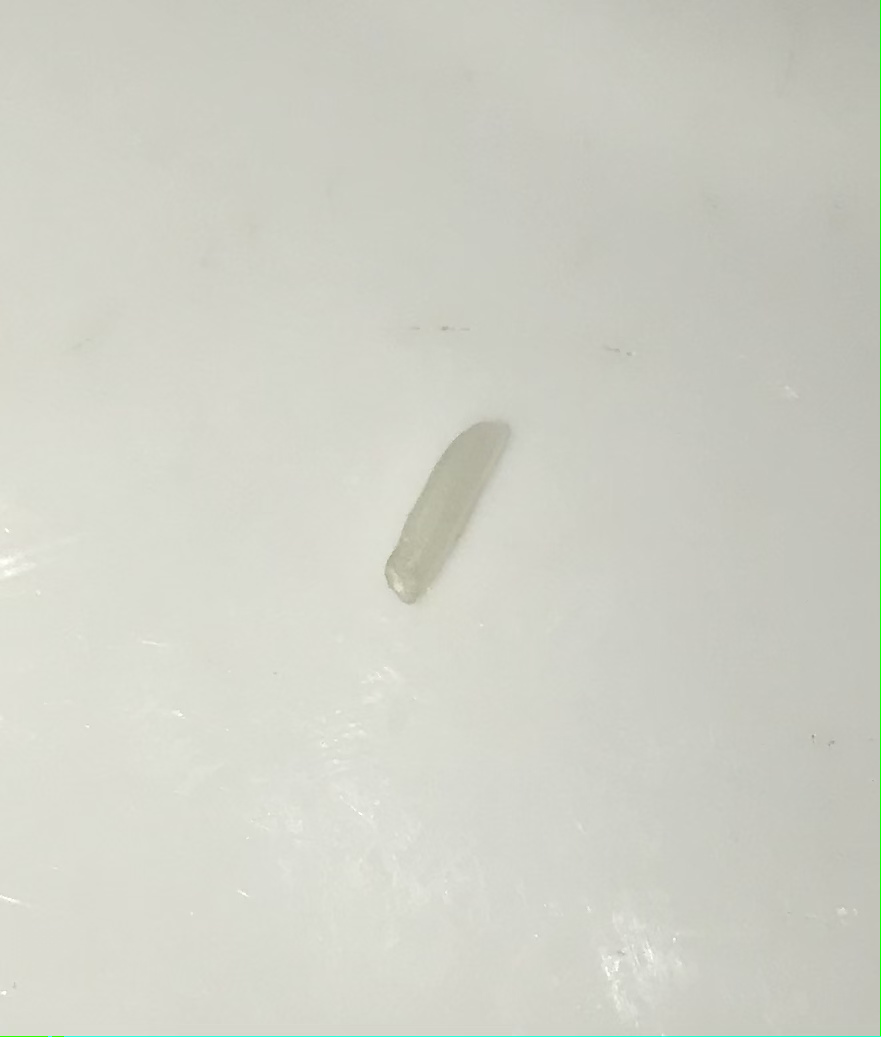Gao Ngoc Troi: (378, 411, 512, 610)
